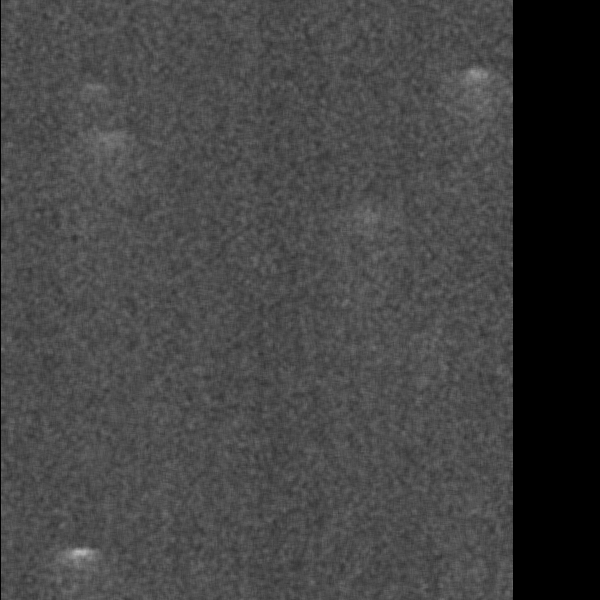spark: (21, 25, 87, 77), (435, 53, 489, 115), (86, 127, 114, 189), (195, 277, 221, 335), (422, 575, 481, 599), (195, 66, 222, 109), (170, 480, 184, 558), (195, 118, 219, 154), (158, 42, 178, 79)
